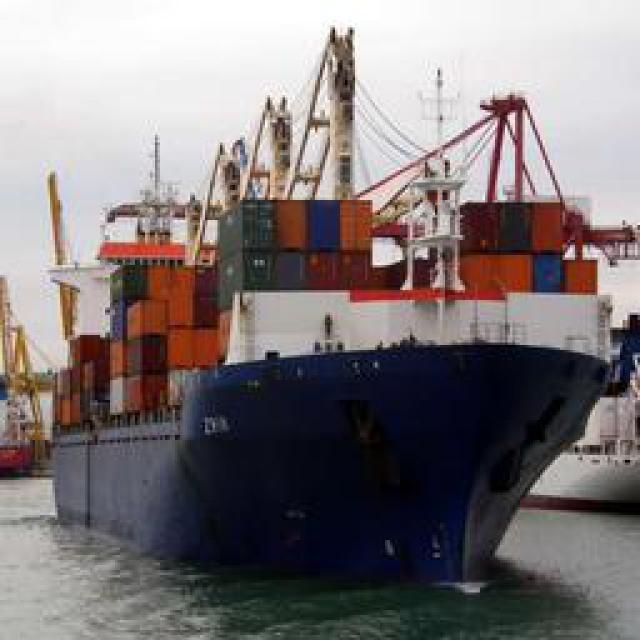Ship: (44, 44, 624, 593)
